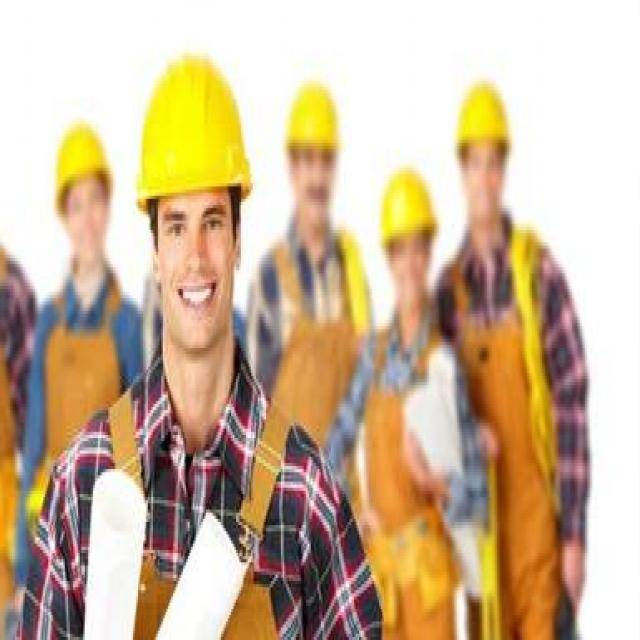Safety-Helmet: (130, 47, 256, 211), (279, 68, 346, 165), (450, 68, 516, 162), (48, 112, 116, 199), (376, 158, 439, 248)
